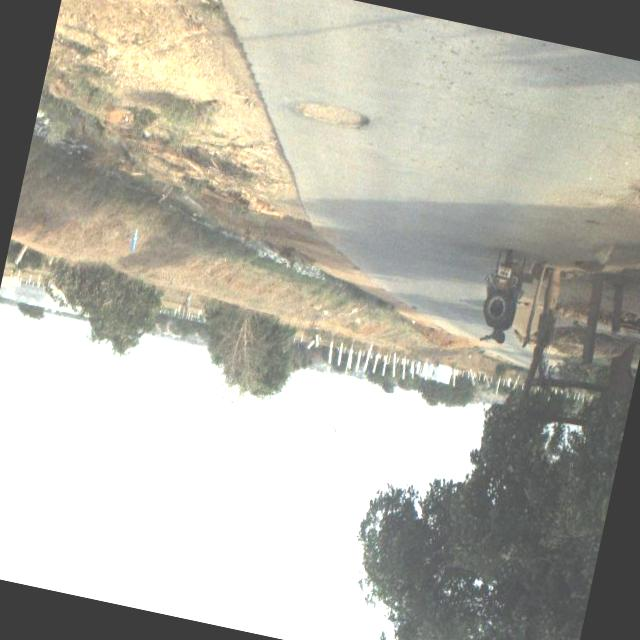pothole: (275, 52, 411, 160)
